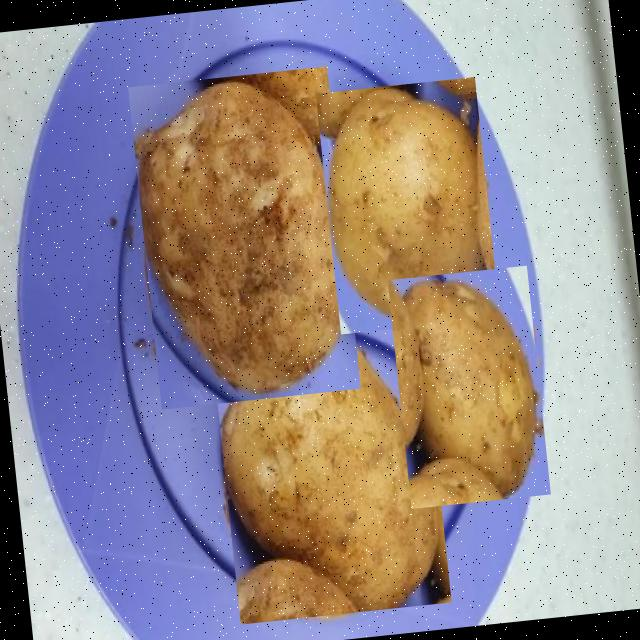Potato: (126, 66, 360, 409), (209, 316, 450, 624), (314, 77, 498, 334), (386, 266, 550, 508)
